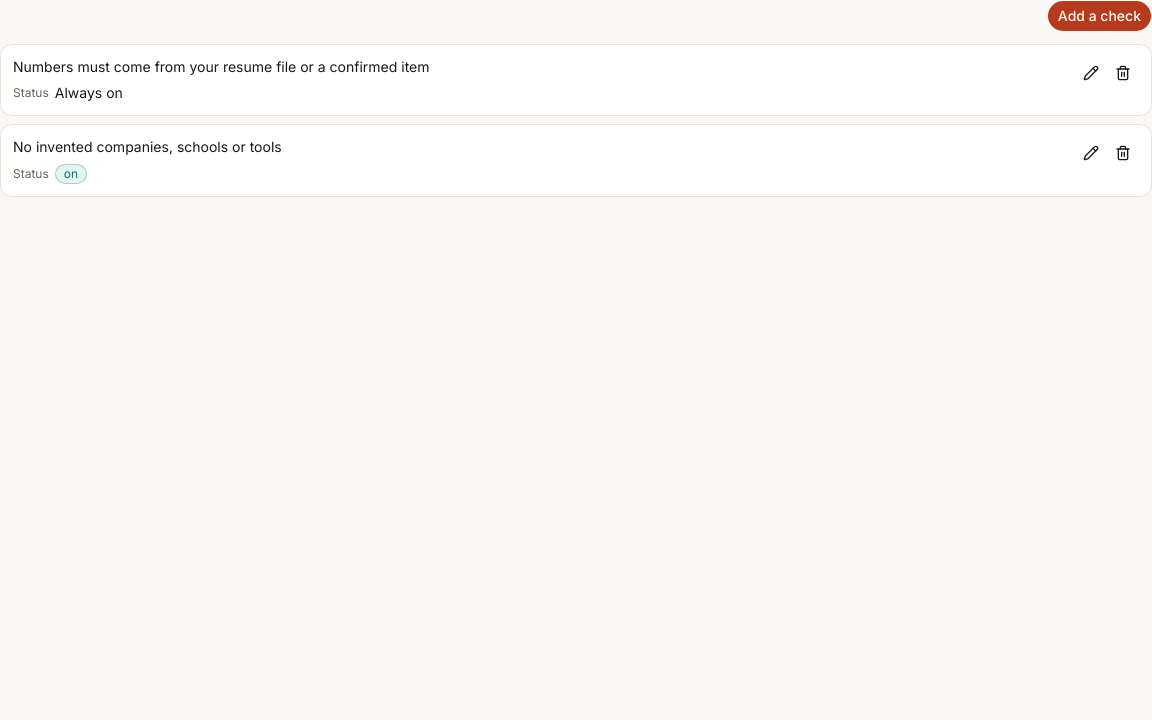
GuardrailsTab › turns the rule off once the confirm dialog is accepted
Click the button named "edit no invented companies, schools or tools": (1091, 153) [1075, 137, 1107, 169]
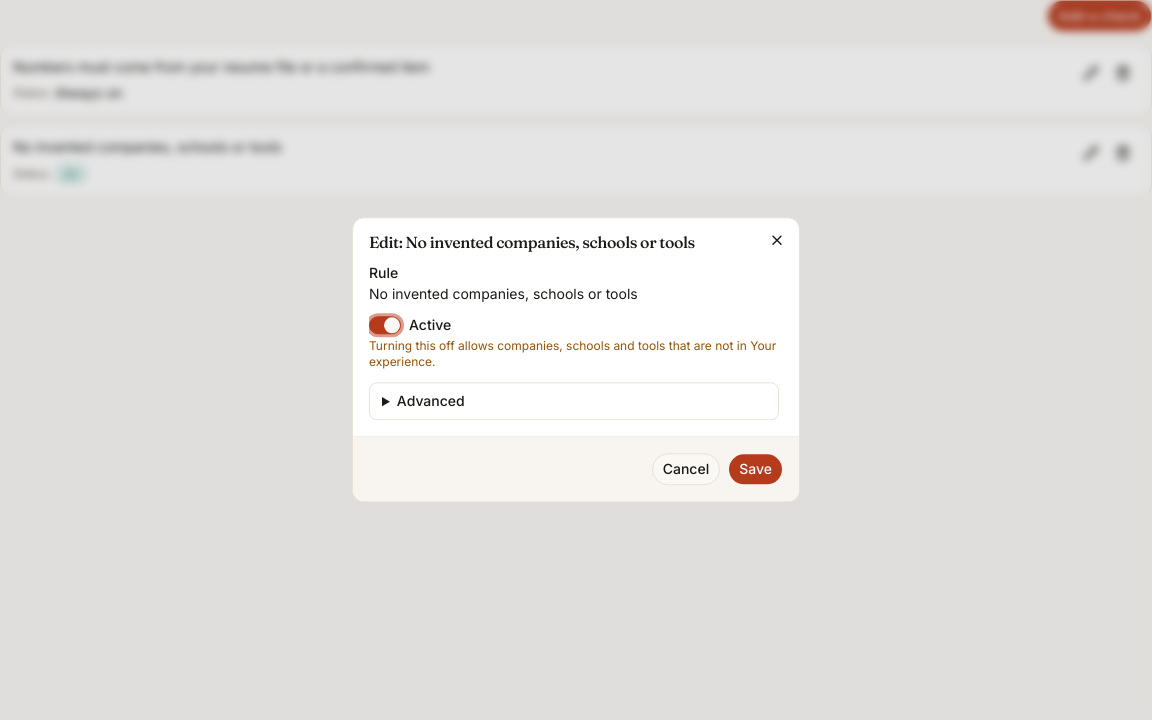
Click the switch named "active": (385, 326) [369, 316, 401, 335]
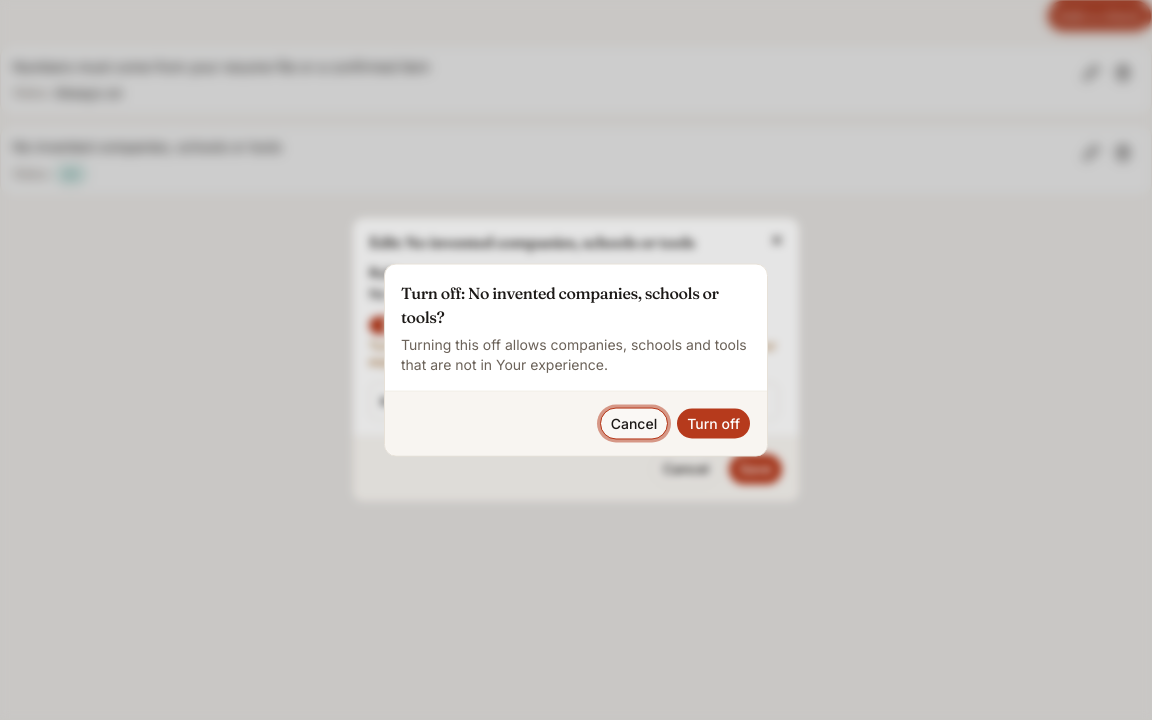
Click the button "Turn off": (714, 424) [676, 408, 751, 440]
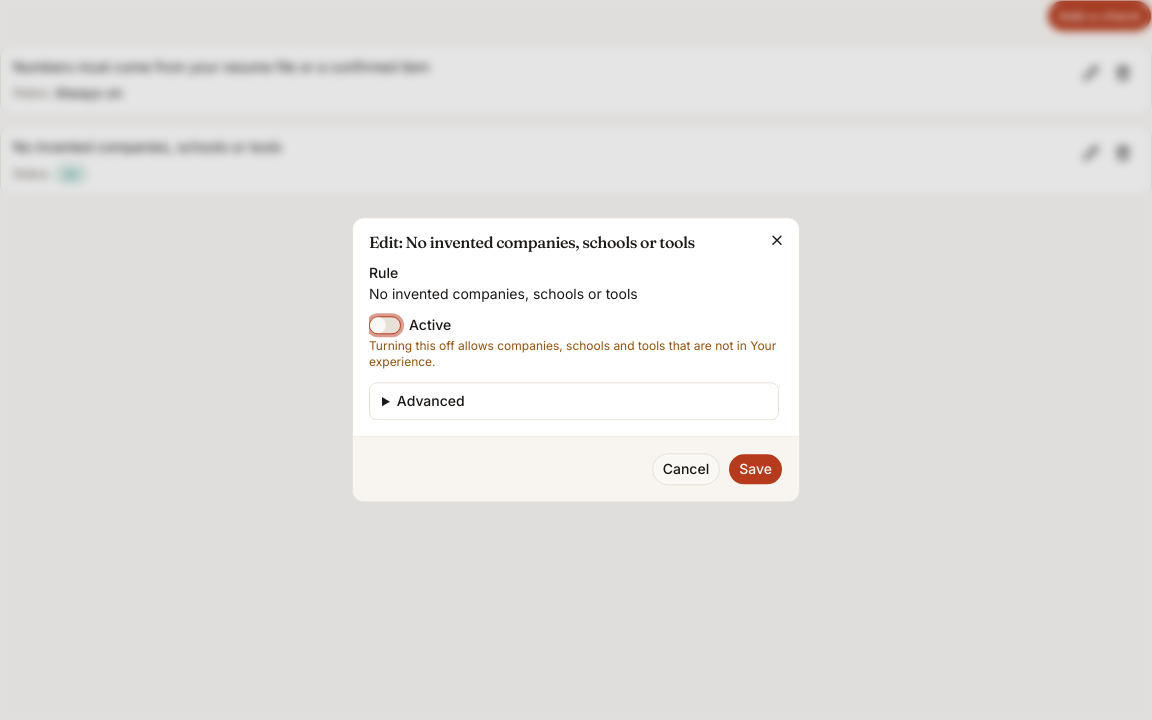
Check: the heading "Turn off: No invented companies, schools or tools?" is gone
